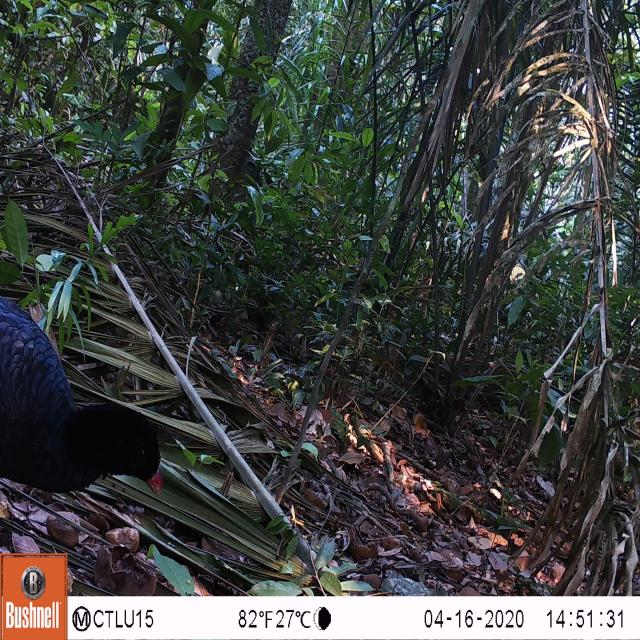Salvins Curassow: (0, 291, 173, 514)
